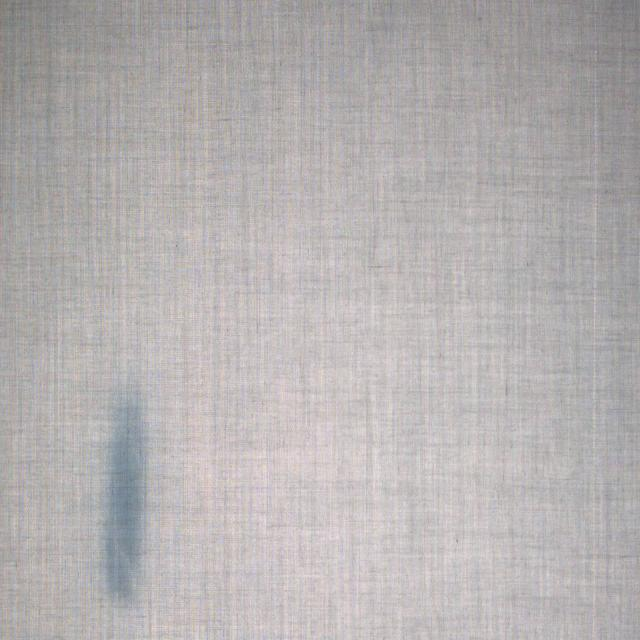dirty: (101, 389, 148, 596)
